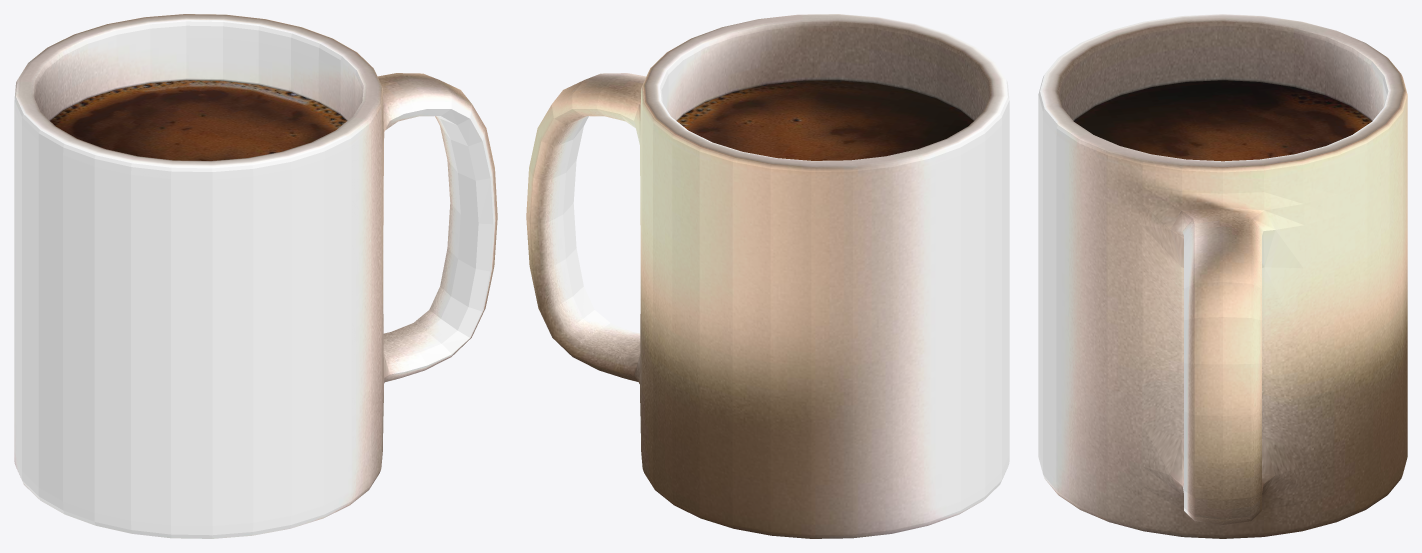
Rendered from kafei.glb.
3 renders of one model, left to right at view 1: azimuth 30°, elevation 25°; view 2: azimuth 150°, elevation 25°; view 3: azimuth 270°, elevation 25°, orthographic.
Visible parts, largest first — view 1: baked; view 2: baked; view 3: baked.
Part boxes in pixels (bbox=[...]): baked: bbox=[14, 14, 497, 538]; baked: bbox=[526, 14, 1009, 538]; baked: bbox=[1038, 14, 1407, 538].
Size of the model in its own units: 2.71 by 2.16 by 1.93.
Materials: 1 (1 with a texture image).
